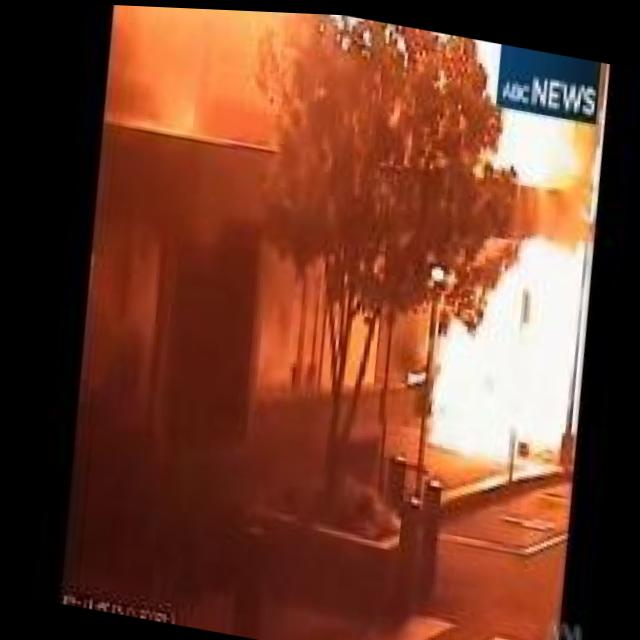fire: (386, 194, 603, 482), (454, 95, 600, 190), (465, 37, 506, 100)
